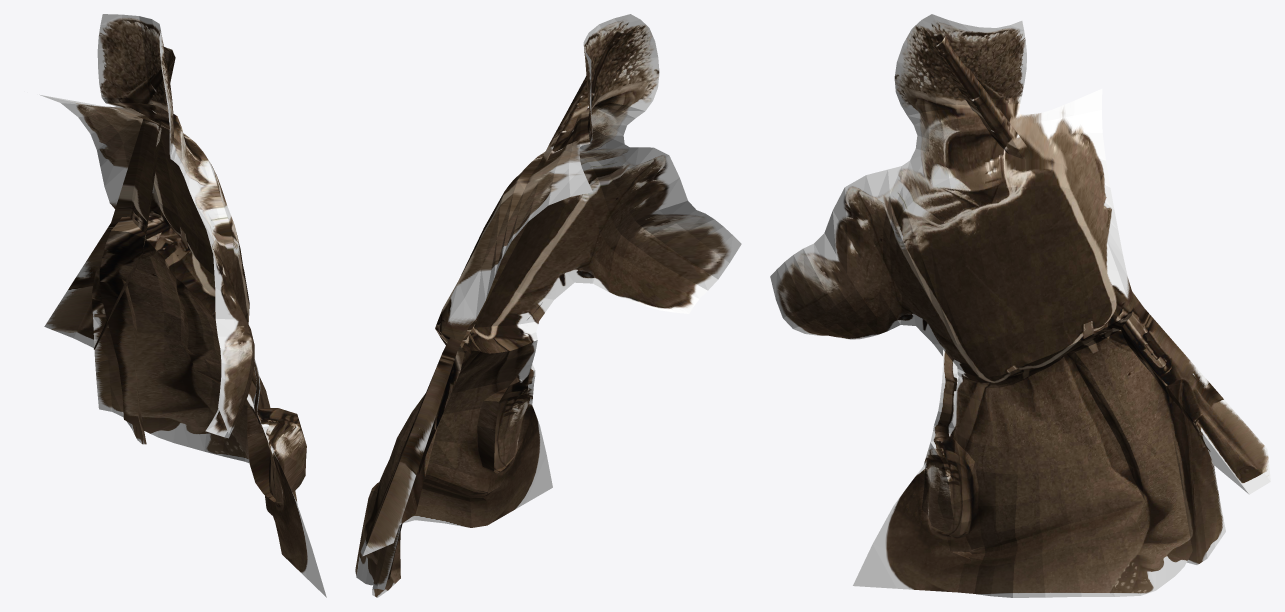
Rendered from Man_07.fbx.
3 renders of one model, left to right at view 1: azimuth 30°, elevation 25°; view 2: azimuth 150°, elevation 25°; view 3: azimuth 270°, elevation 25°, orthographic. The views are drawn at different scales.
Visible parts, largest first — view 1: Man_07; view 2: Man_07; view 3: Man_07.
Boxes of the visible parts, x1,y1,x2,y2 form: Man_07: [39, 14, 326, 597]; Man_07: [355, 14, 741, 597]; Man_07: [770, 14, 1270, 597].
Bounding box in the file's own units: 0.3491 × 0.7691 × 0.675.
Materials: 1 (1 with a texture image).
